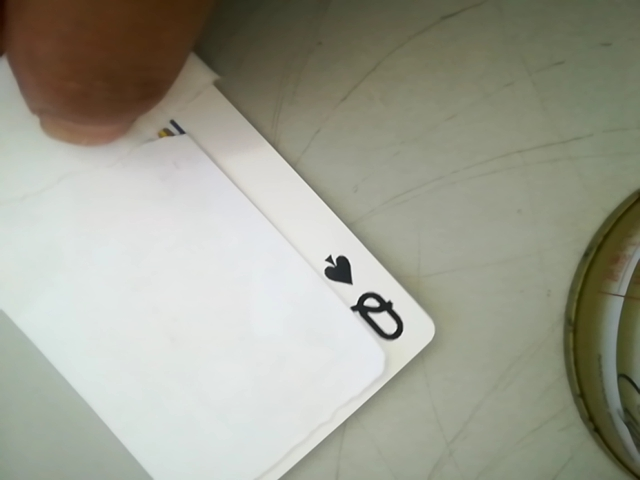ht q: (317, 250, 420, 353)
